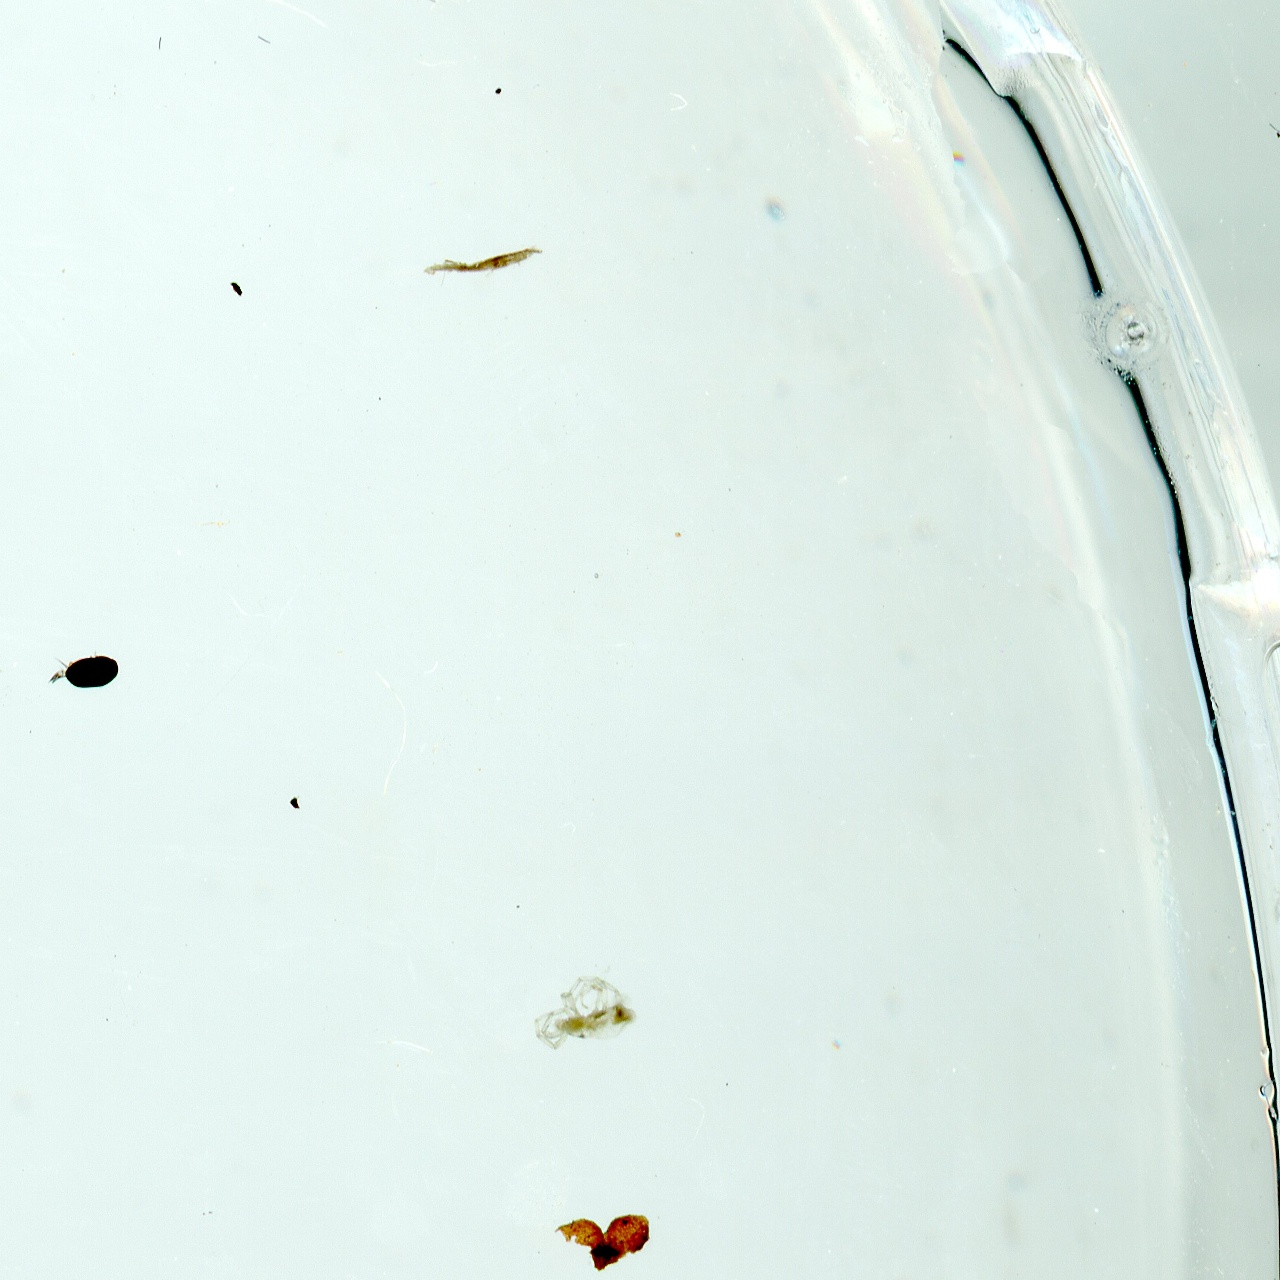arthropod: (531, 972, 642, 1053), (53, 648, 123, 690), (0, 636, 5, 720)
